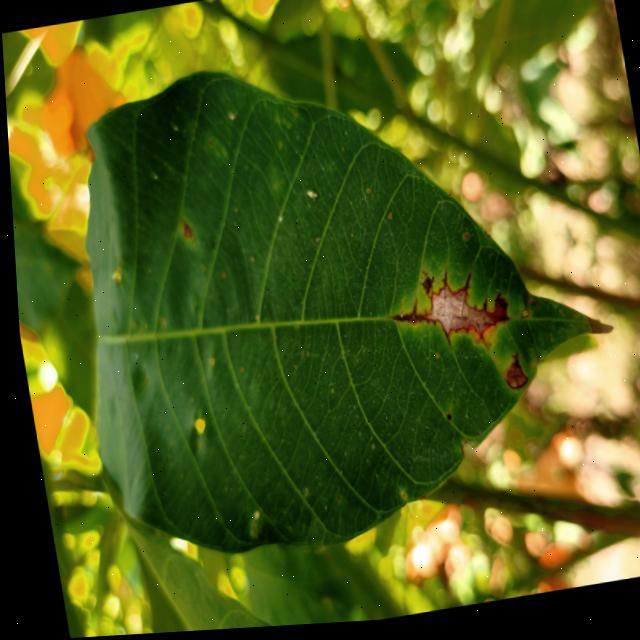Colletotrichum: (440, 417, 446, 425)
Corynespora: (382, 305, 425, 333), (495, 355, 524, 396), (488, 297, 507, 327), (414, 274, 433, 300), (455, 278, 471, 302), (439, 330, 448, 353), (437, 273, 446, 292), (476, 302, 485, 318)
Leaf-Blight: (420, 284, 492, 346)
